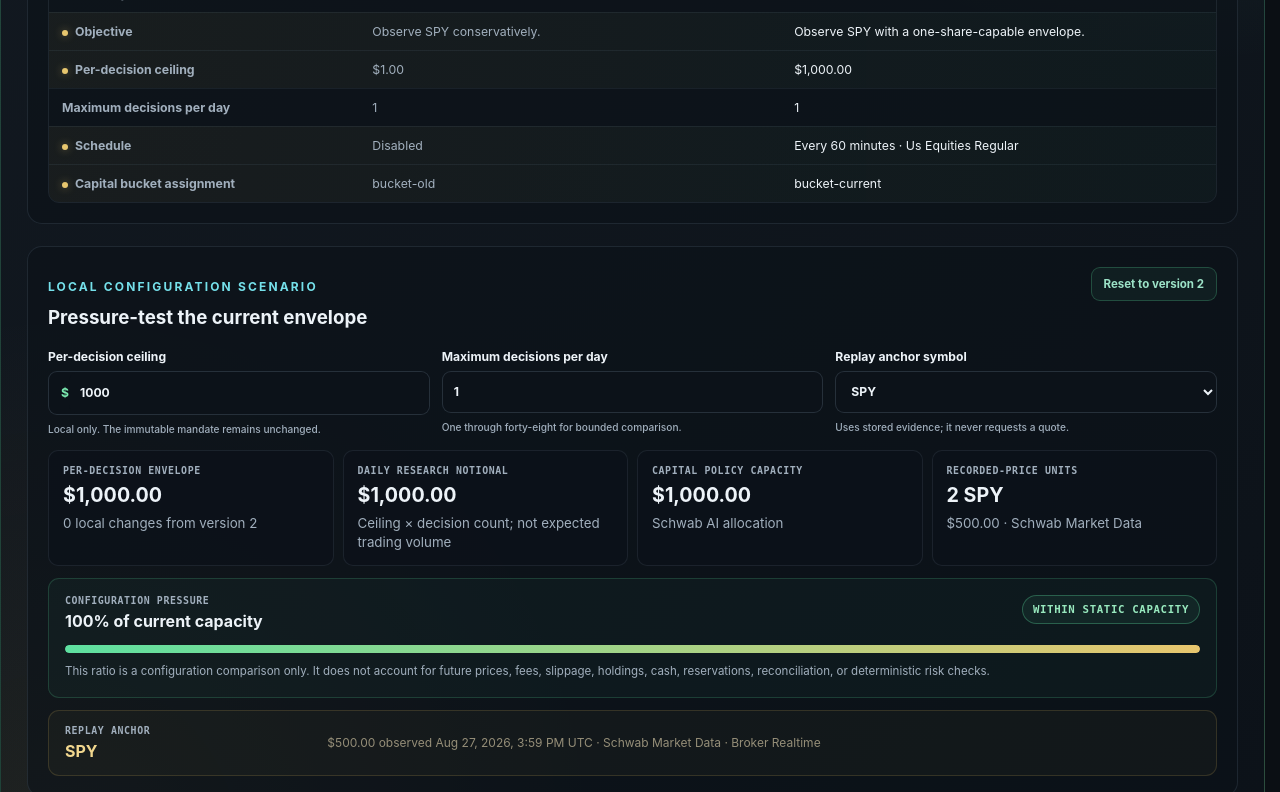
Test: Strategy Simulation Workbench › updates and resets a what-if without mutating the immutable version
(page scrolled)
Replace the text in the number field named "Scenario per-decision ceiling" with "500" at x=249, y=393, box [69,372,429,414]
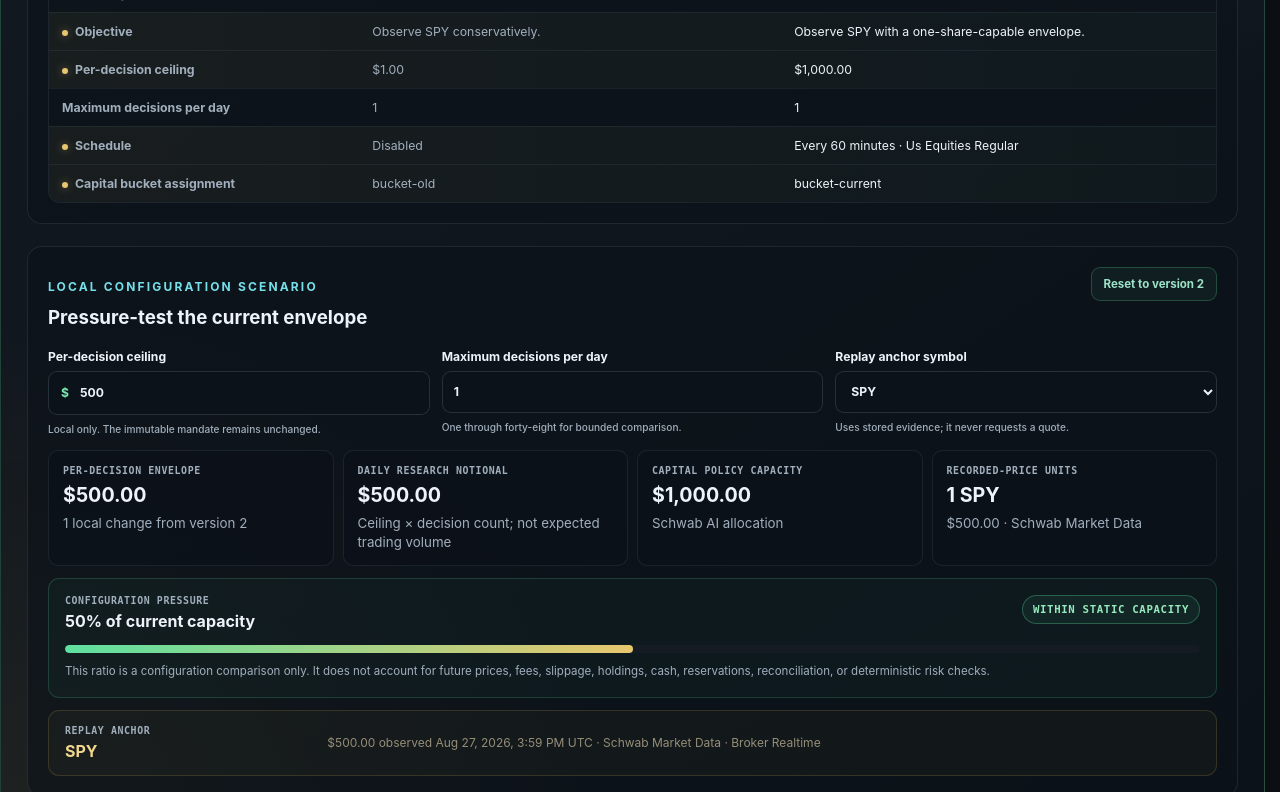
Replace the text in the number field named "Scenario maximum decisions per day" with "2" at x=633, y=392, box [442,371,823,413]
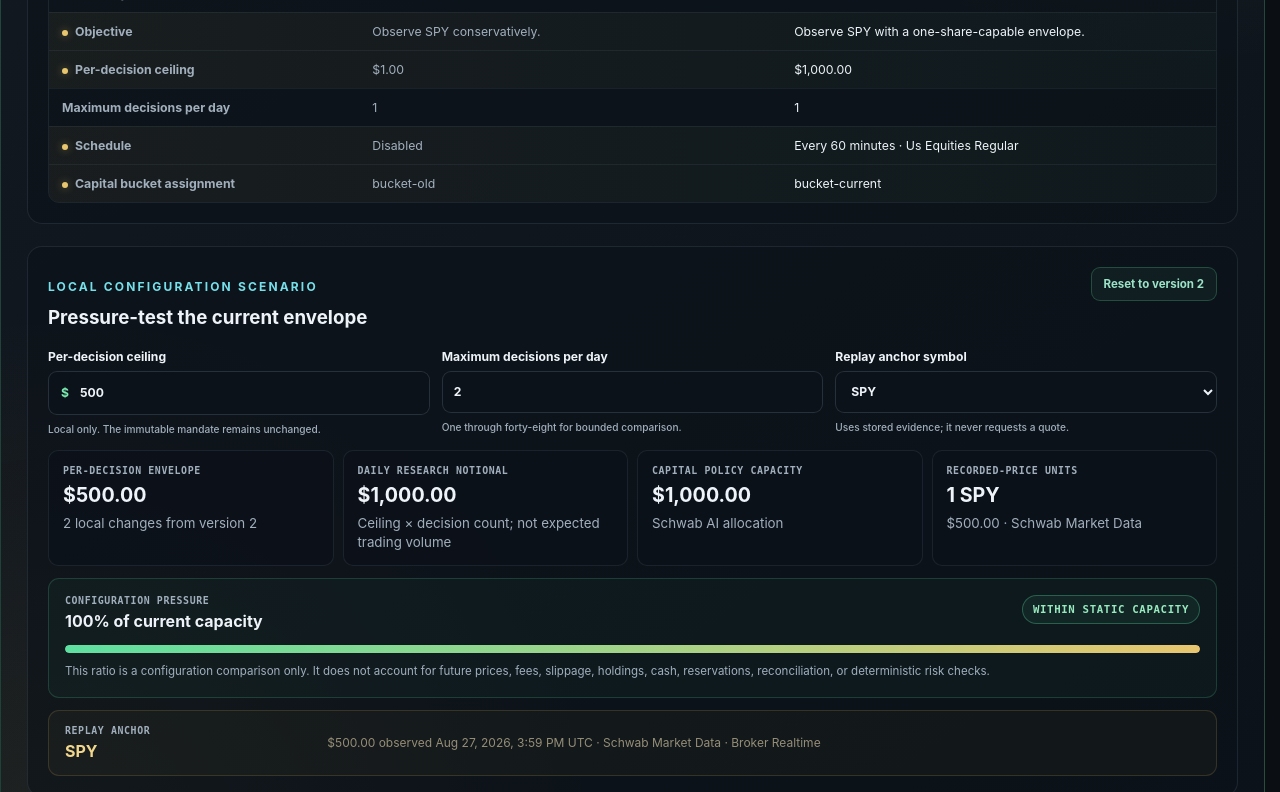
expect the text "1 SPY" is shown: met, box [946,483,1000,507]
expect the text "2 local changes from version 2" is shown: met, box [63,515,257,531]
expect the text "$1,000.00" below "DAILY RESEARCH NOTIONAL" is shown: met, box [358,483,457,507]
Click the button "Reset to version 2" at x=1154, y=284, box [1090,267,1217,301]
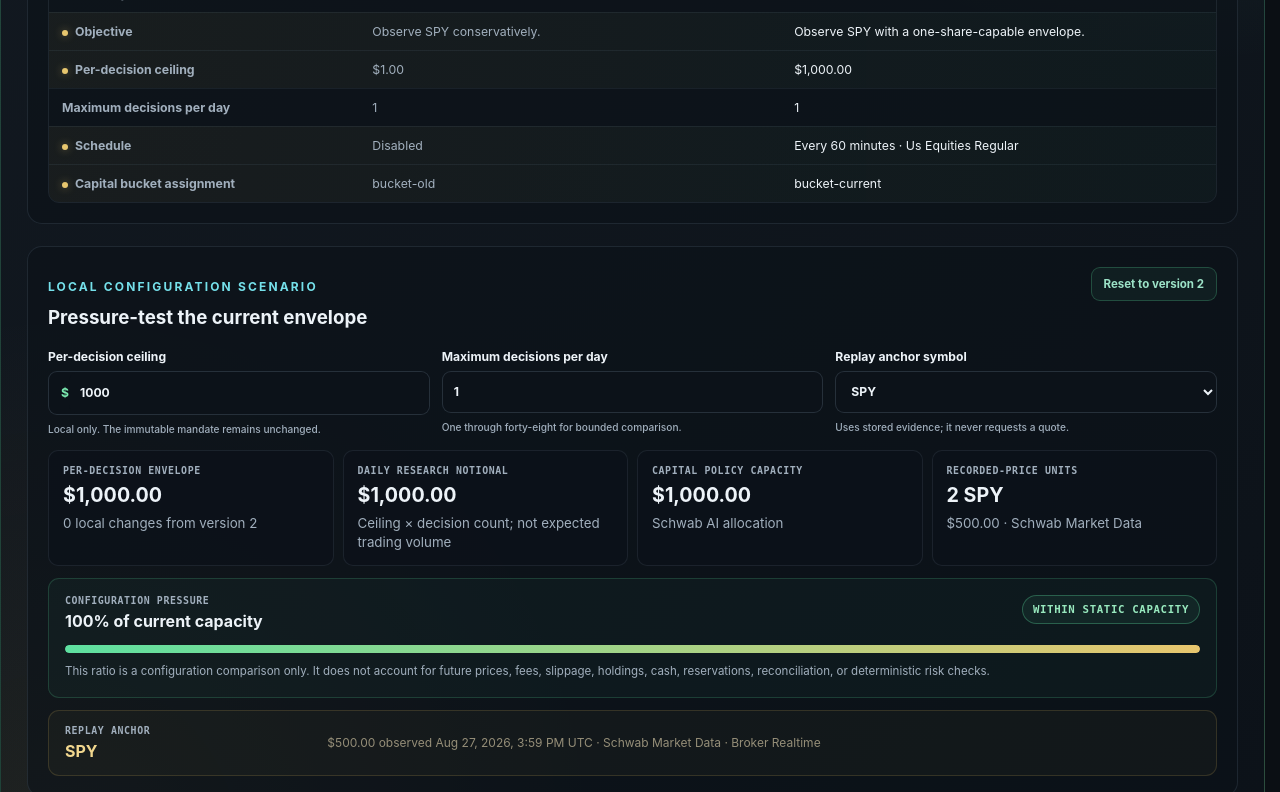
expect the number field named "Scenario per-decision ceiling" holds "1000": met, box [69,372,429,414]
expect the text "2 SPY" is shown: met, box [946,483,1004,507]
